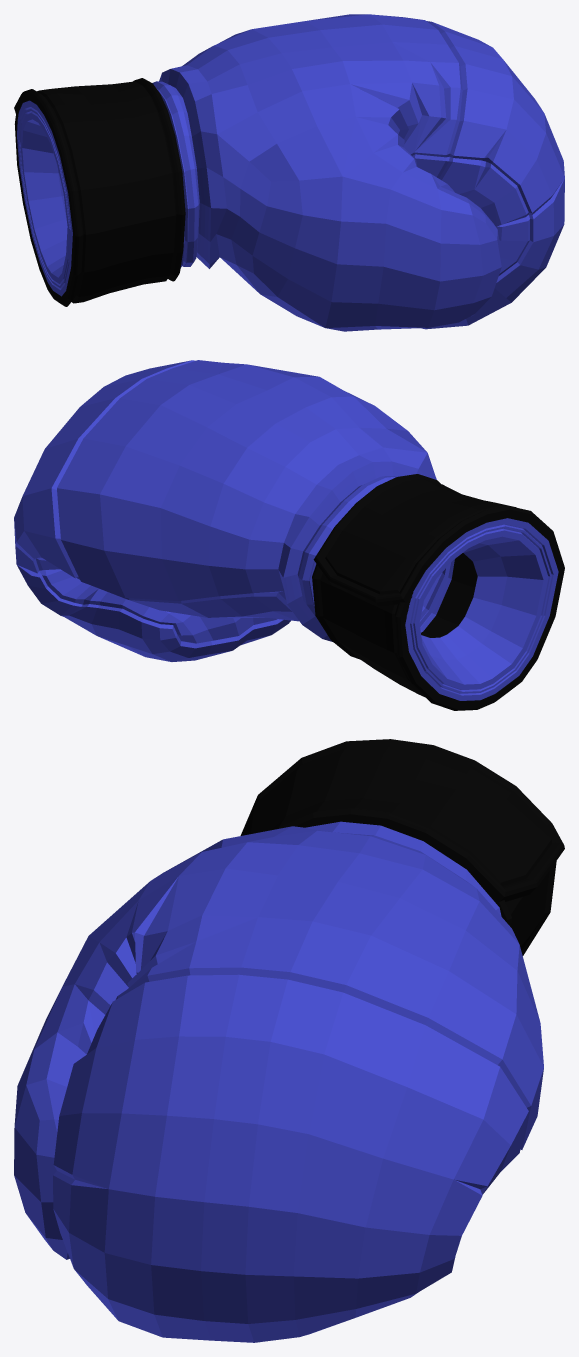
The model's file is player2_glove.fbx.
3 renders of one model, top to bottom at view 1: azimuth 30°, elevation 25°; view 2: azimuth 150°, elevation 25°; view 3: azimuth 270°, elevation 25°, orthographic. The views are drawn at different scales.
Parts seen in each view (by area): view 1: node_id6 (×2); view 2: node_id6 (×2); view 3: node_id6 (×2).
Boxes of the visible parts, x1,y1,x2,y2 form: node_id6 (×2): (14,14,564,331); node_id6 (×2): (14,360,564,710); node_id6 (×2): (14,739,564,1342).
Bounding box in the file's own units: 0.5266 × 0.2887 × 0.3671.
Materials: 2 (2 with a texture image).
